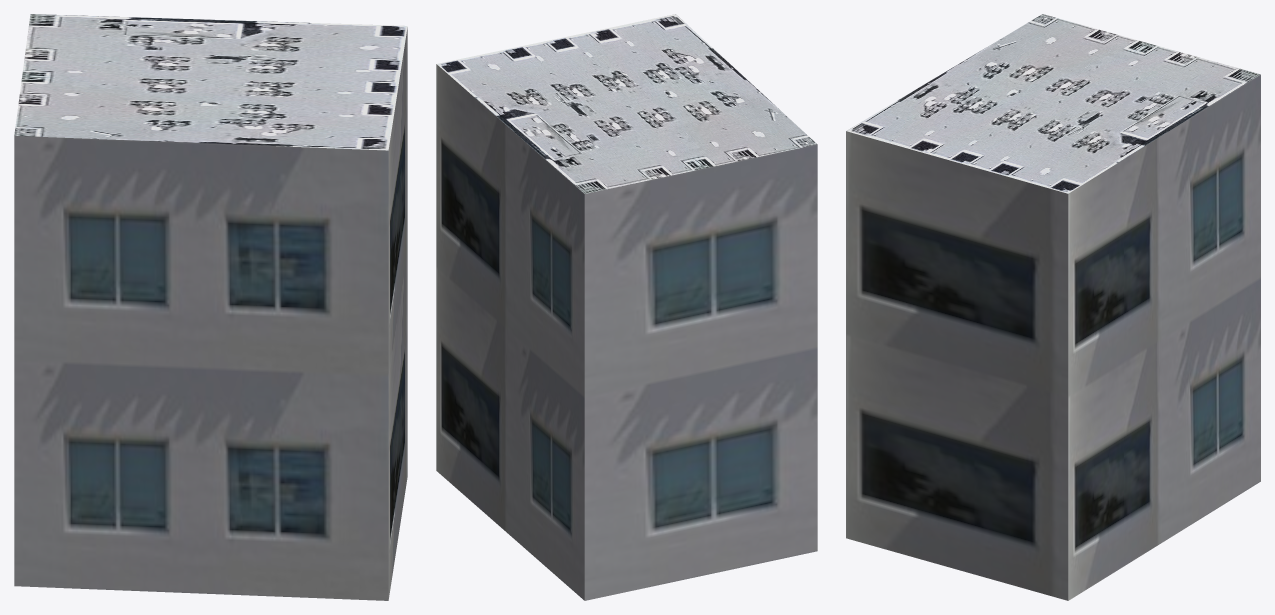
The model's file is ResTex__2035.fbx.
3 views of the same model, side by side, from view 1: azimuth 30°, elevation 25°; view 2: azimuth 150°, elevation 25°; view 3: azimuth 270°, elevation 25° (orthographic). The views are drawn at different scales.
Parts seen in each view (by area): view 1: CityEngineMaterial_10_m, CityEngineMaterial_4_m; view 2: CityEngineMaterial_10_m, CityEngineMaterial_4_m; view 3: CityEngineMaterial_10_m, CityEngineMaterial_4_m.
Part boxes in pixels (left/top/right/bottom): CityEngineMaterial_10_m: left=14, top=27, right=407, bottom=600; CityEngineMaterial_4_m: left=14, top=14, right=407, bottom=150; CityEngineMaterial_10_m: left=436, top=64, right=817, bottom=600; CityEngineMaterial_4_m: left=437, top=14, right=817, bottom=193; CityEngineMaterial_10_m: left=846, top=74, right=1260, bottom=600; CityEngineMaterial_4_m: left=846, top=14, right=1260, bottom=193.
Bounding box in the file's own units: 5.68 × 6 × 5.54.
Materials: 2 (2 with a texture image).
